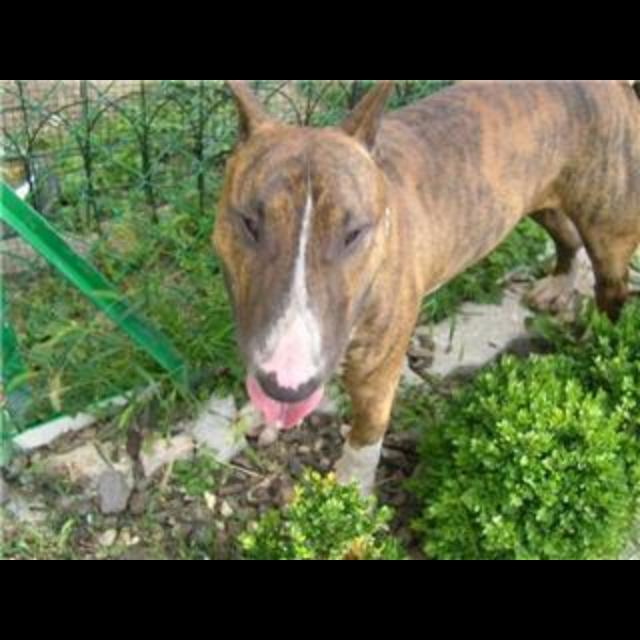bullterrier: (211, 81, 639, 507)
